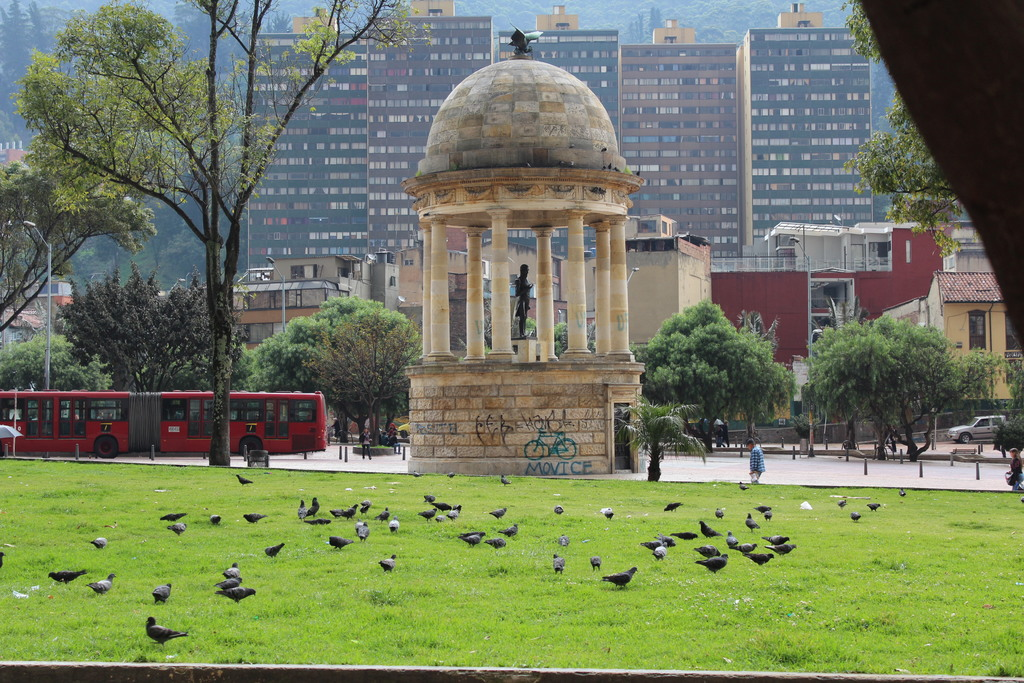Tree: (11, 0, 433, 463), (47, 265, 229, 462), (239, 290, 420, 454), (805, 310, 1013, 444), (627, 303, 796, 466), (0, 317, 123, 444), (613, 400, 720, 487)
